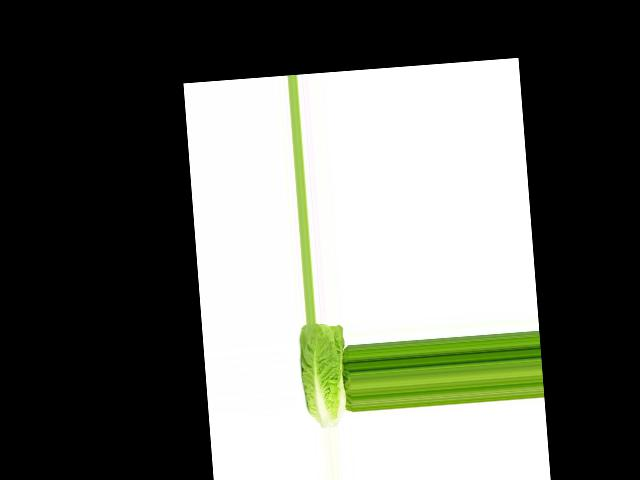lettuce: (290, 320, 348, 429)
